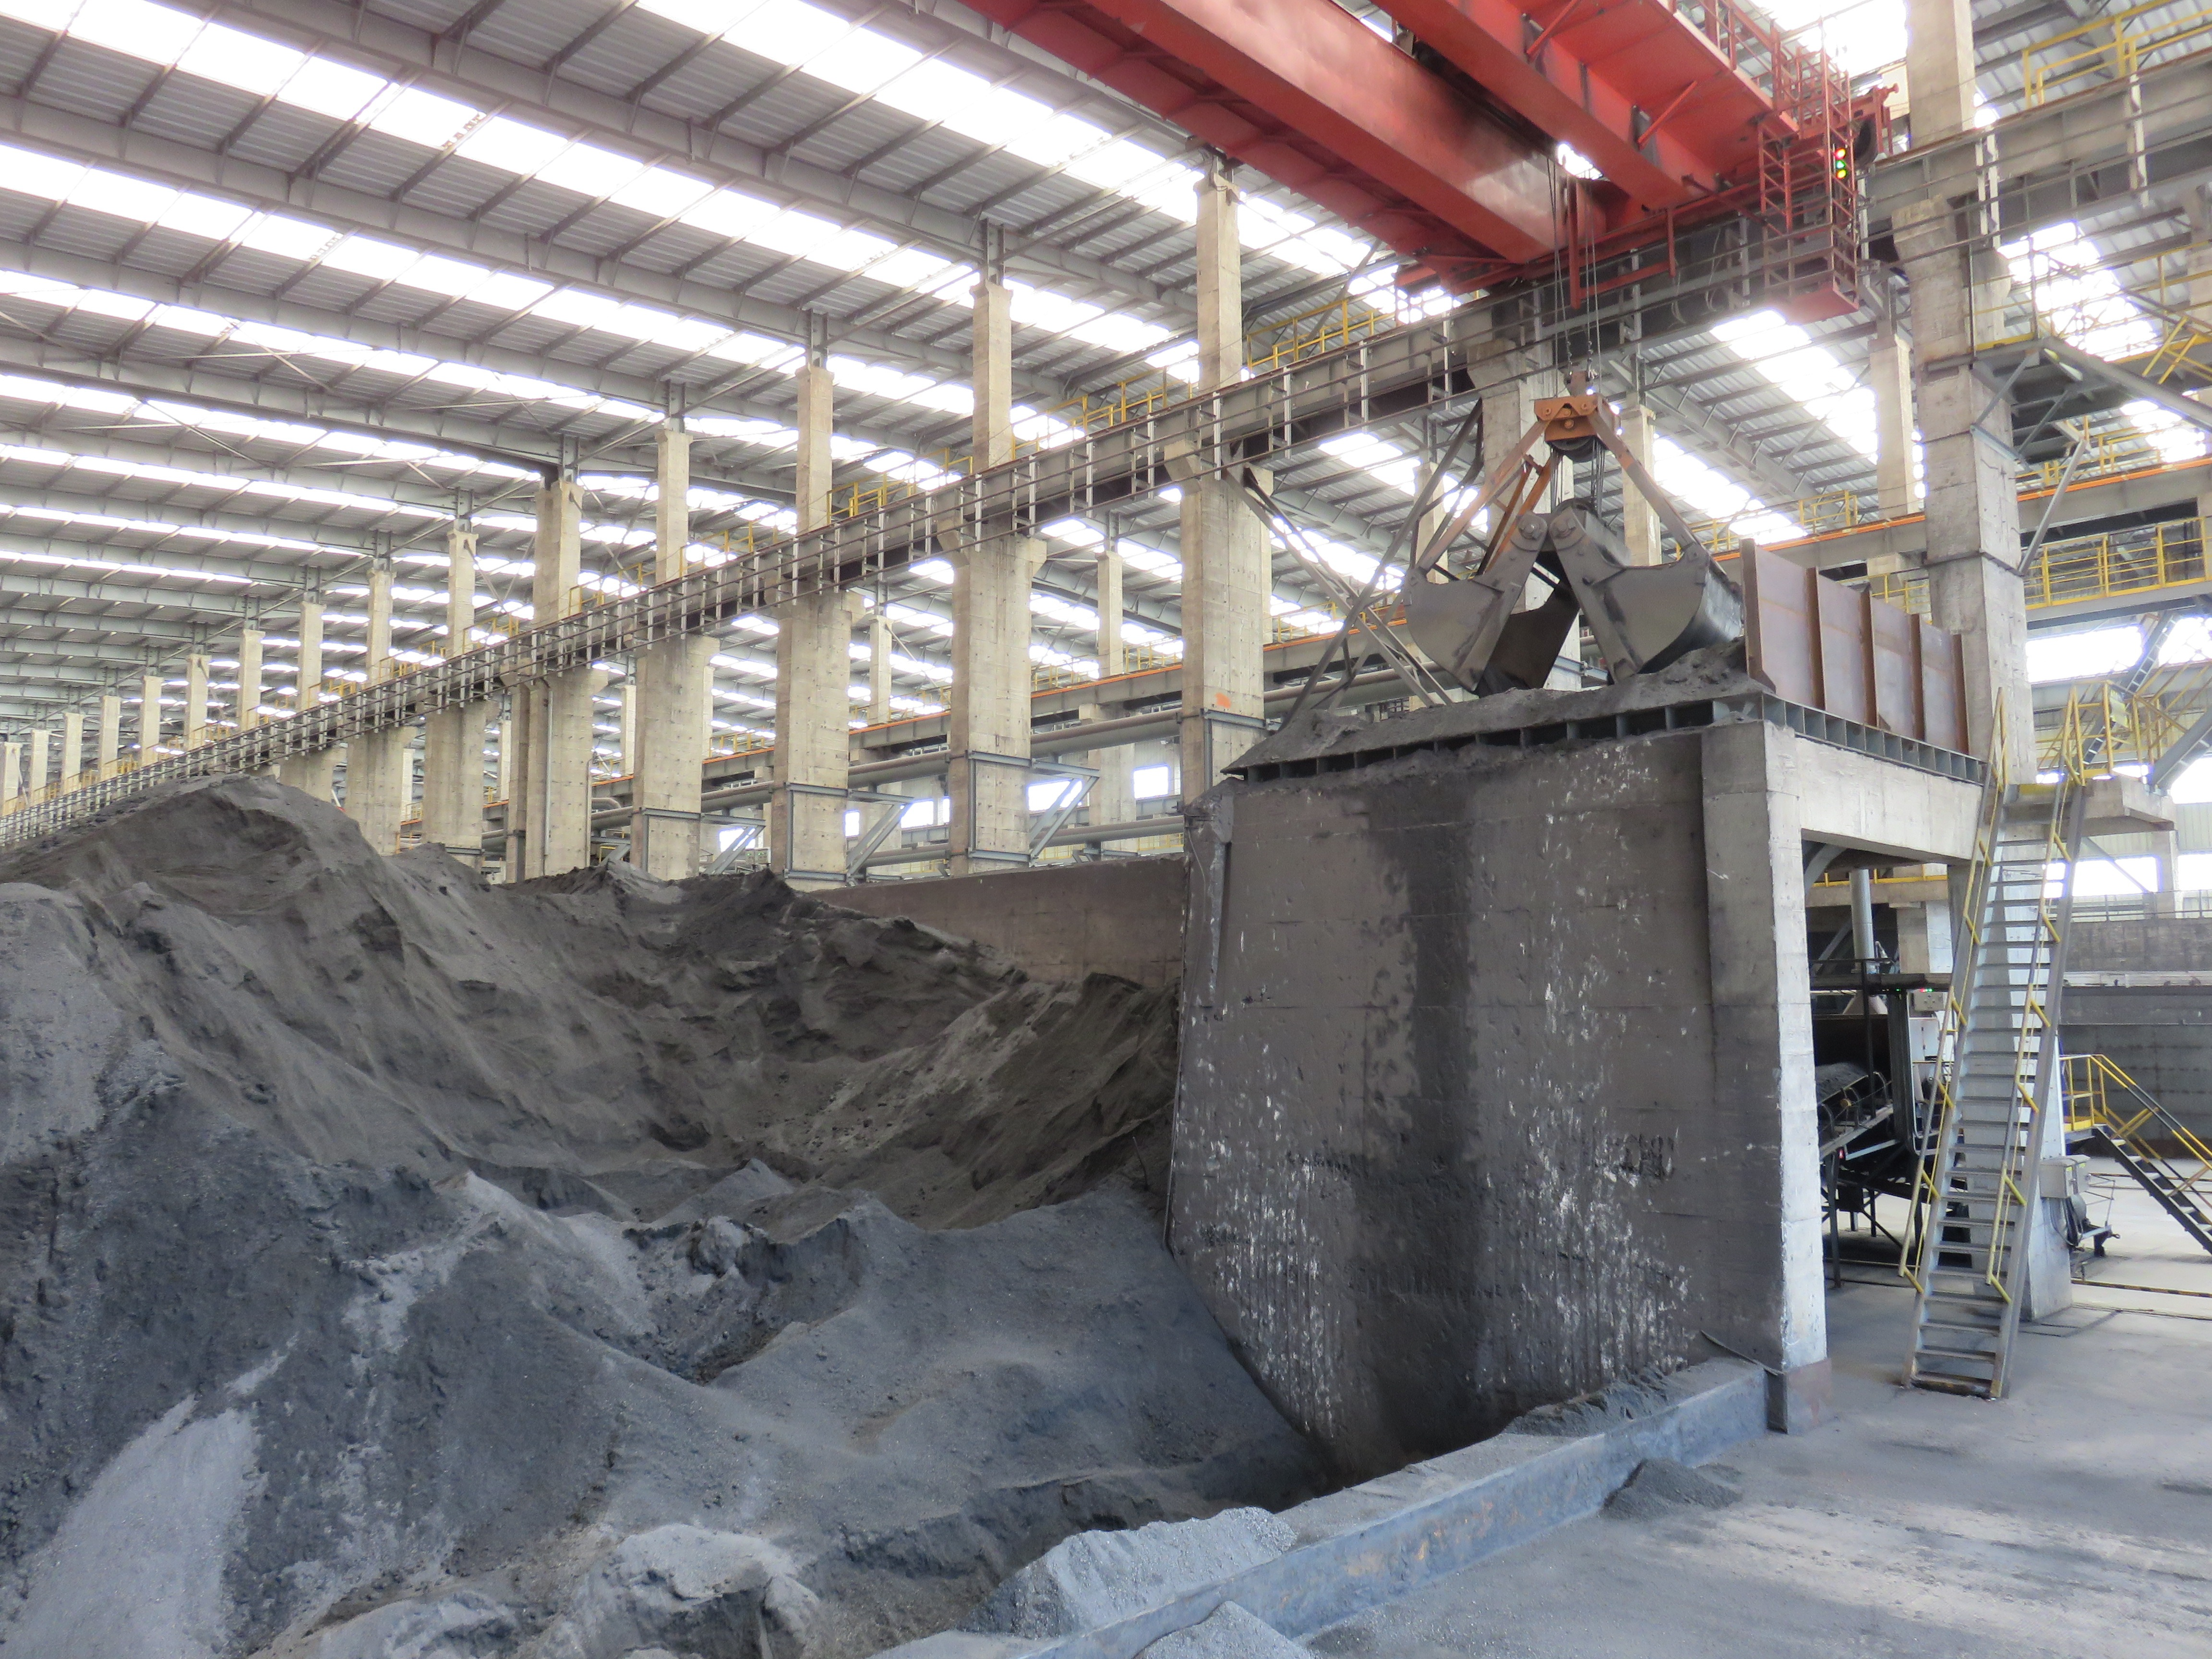grab: (1388, 389, 1761, 695)
